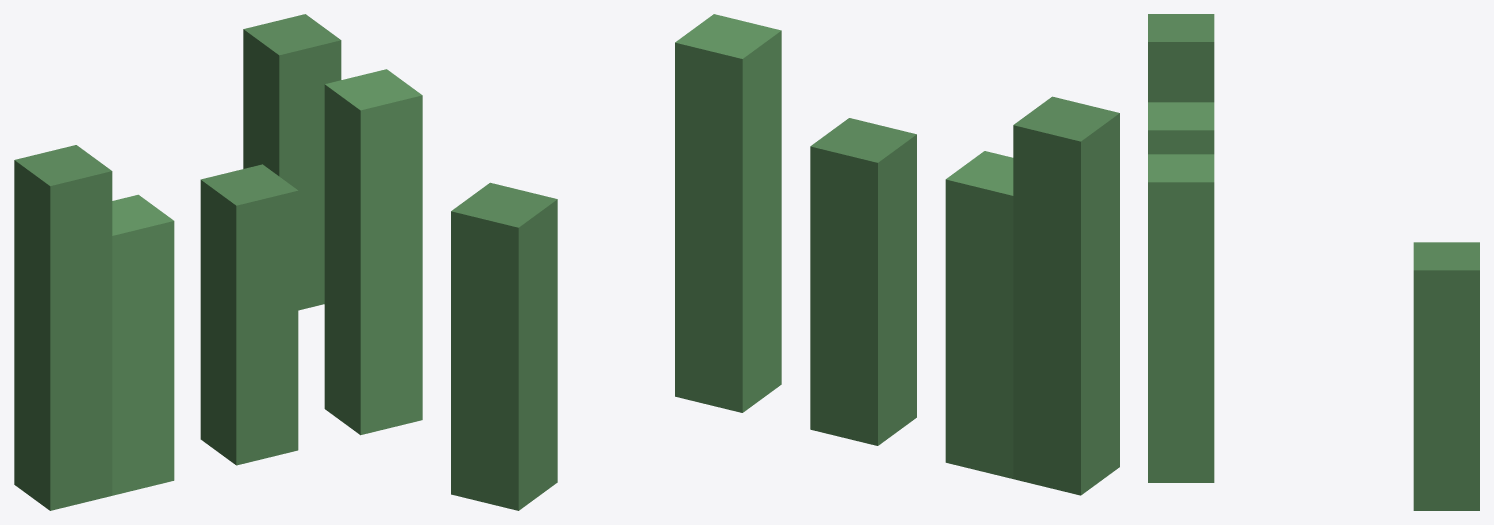
Rendered from helecho_01.glb.
3 views of the same model, side by side, from view 1: azimuth 30°, elevation 25°; view 2: azimuth 150°, elevation 25°; view 3: azimuth 270°, elevation 25° (orthographic). The views are drawn at different scales.
Parts seen in each view (by area): view 1: helecho_01; view 2: helecho_01; view 3: helecho_01.
Boxes of the visible parts, x1,y1,x2,y2 form: helecho_01: [14, 14, 422, 510]; helecho_01: [451, 14, 1119, 510]; helecho_01: [1148, 14, 1479, 510].
Bounding box in the file's own units: 0.7 × 0.5 × 0.5.
